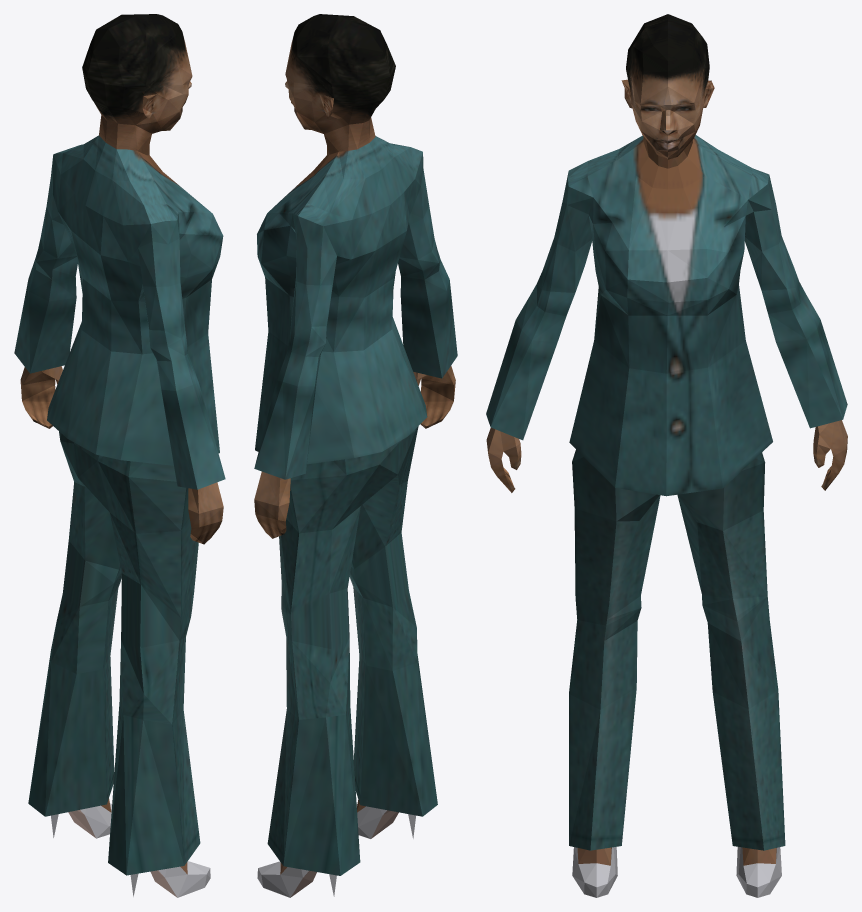
Rendered from bfybu.obj.
3 renders of one model, left to right at view 1: azimuth 30°, elevation 25°; view 2: azimuth 150°, elevation 25°; view 3: azimuth 270°, elevation 25°, orthographic. The views are drawn at different scales.
Visible parts, largest first — view 1: _Pelvis; view 2: _Pelvis; view 3: _Pelvis.
Boxes of the visible parts, box(x1,y1,x2,y2) form: _Pelvis: box(14, 14, 225, 897); _Pelvis: box(254, 14, 457, 897); _Pelvis: box(486, 14, 847, 897).
Bounding box in the file's own units: 0.3099 × 1.8 × 0.6866.
1 material, 1 textured.
